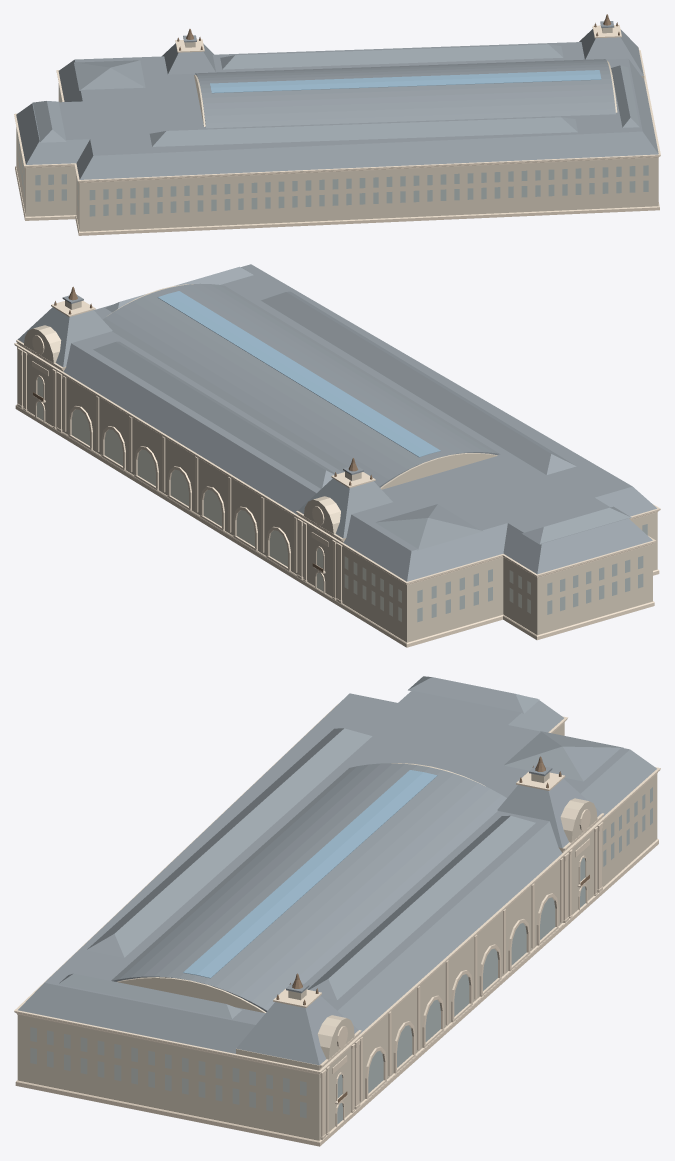
3 renders of one model, top to bottom at view 1: azimuth 30°, elevation 25°; view 2: azimuth 150°, elevation 25°; view 3: azimuth 270°, elevation 25°, orthographic. The views are drawn at different scales.
Visible parts, largest first — view 1: roof, stone, window, trim, glass; view 2: roof, stone, trim, window, glass; view 3: roof, stone, trim, window, glass.
Part boxes in pixels (<box>): roof: <box>16,21,658,179</box>; stone: <box>16,27,658,231</box>; window: <box>17,87,648,216</box>; trim: <box>14,24,660,235</box>; glass: <box>210,70,601,93</box>; roof: <box>18,264,656,581</box>; stone: <box>17,284,657,642</box>; trim: <box>14,301,660,647</box>; window: <box>36,377,647,622</box>; glass: <box>158,291,440,457</box>; roof: <box>18,676,656,1065</box>; stone: <box>17,723,657,1140</box>; trim: <box>14,703,660,1146</box>; window: <box>30,787,652,1124</box>; glass: <box>183,770,437,978</box>.
Size of the model in its own units: 197 by 35 by 140.
